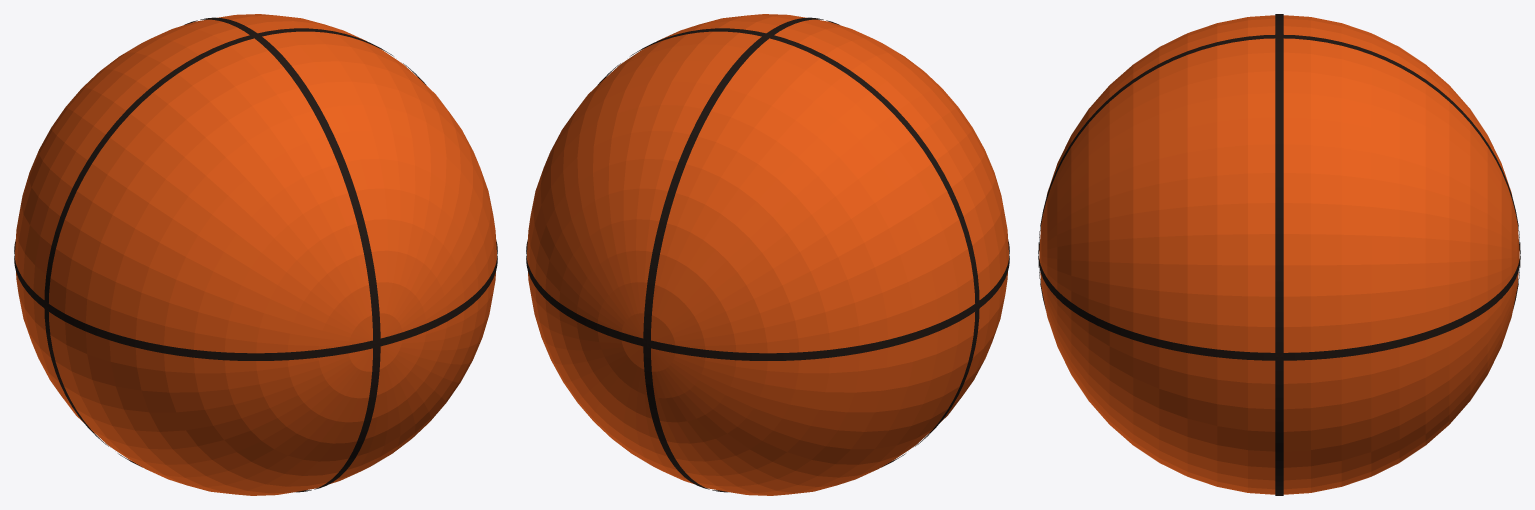
The model's file is basketball_3d.obj.
The picture shows the model from 3 angles, left to right: view 1: azimuth 30°, elevation 25°; view 2: azimuth 150°, elevation 25°; view 3: azimuth 270°, elevation 25°; orthographic projection.
Size of the model in its own units: 2.01 by 2.01 by 2.01.
